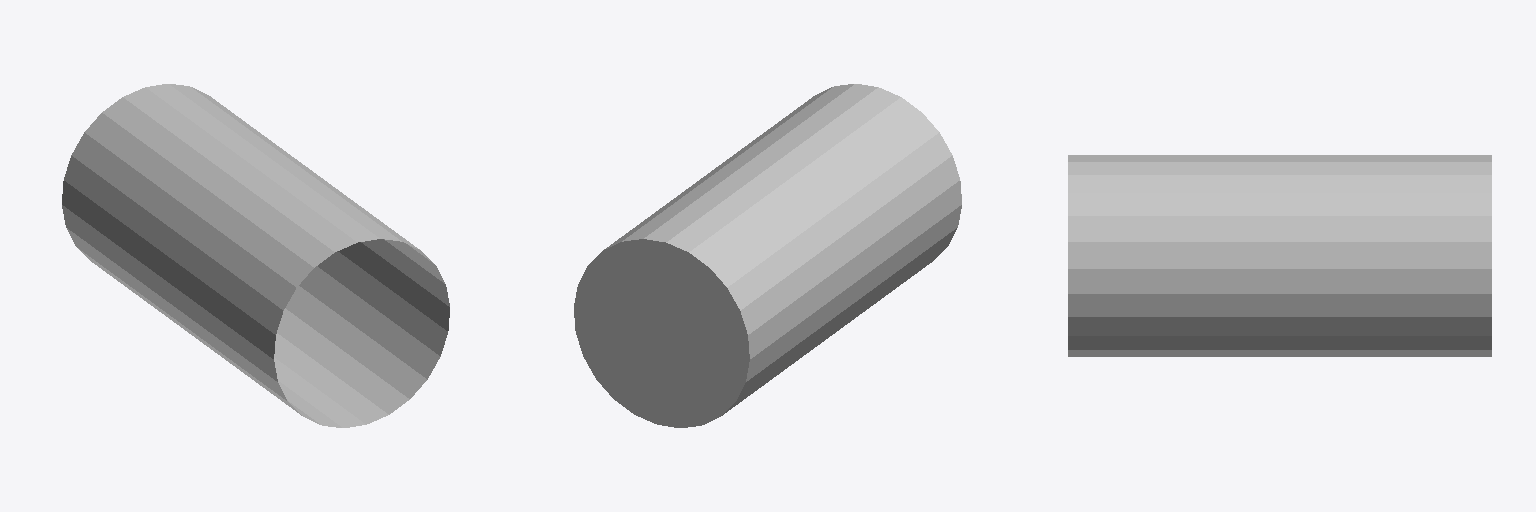
The model's file is original-26.obj.
3 views of the same model, side by side, from view 1: azimuth 30°, elevation 25°; view 2: azimuth 150°, elevation 25°; view 3: azimuth 270°, elevation 25° (orthographic).
Parts seen in each view (by area): view 1: #ID382; view 2: #ID382; view 3: #ID382.
Part boxes in pixels (bbox=[...]): #ID382: bbox=[62, 84, 449, 427]; #ID382: bbox=[574, 84, 961, 427]; #ID382: bbox=[1068, 155, 1491, 356].
Size of the model in its own units: 0.0644 by 0.0644 by 0.1345.